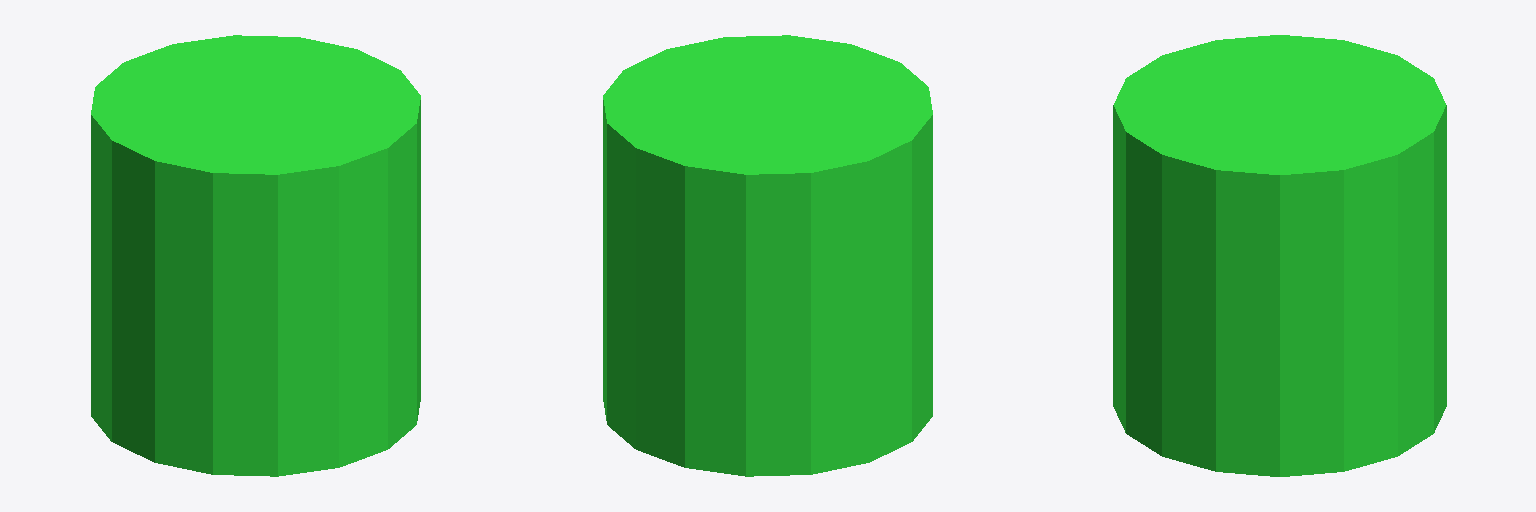
The model's file is cyl1.obj.
3 renders of one model, left to right at view 1: azimuth 30°, elevation 25°; view 2: azimuth 150°, elevation 25°; view 3: azimuth 270°, elevation 25°, orthographic.
Visible parts, largest first — view 1: cylinder1; view 2: cylinder1; view 3: cylinder1.
Part boxes in pixels (x1,y1,x2,y2): cylinder1: (91, 35, 420, 476); cylinder1: (603, 35, 932, 476); cylinder1: (1113, 35, 1446, 476).
Size of the model in its own units: 2 by 2 by 2.